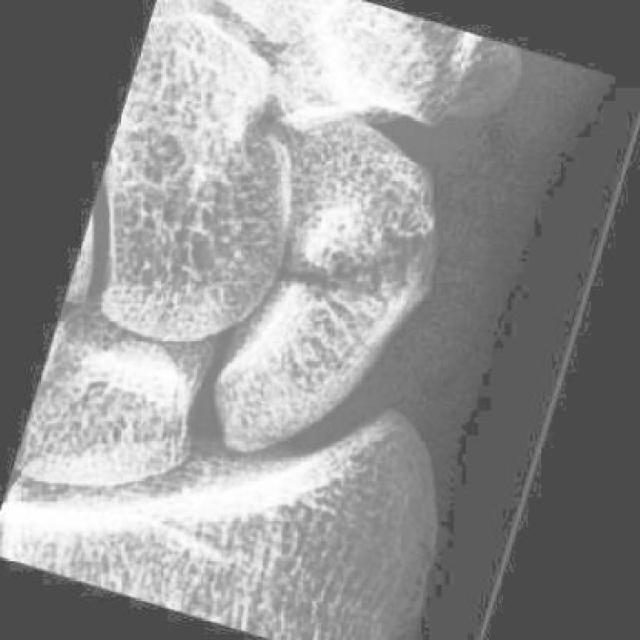Fracture: (249, 169, 463, 346)
